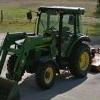Tractor: (6, 5, 97, 83)
